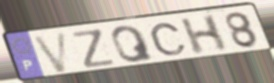8: (223, 10, 260, 50)
C: (148, 22, 189, 57)
H: (179, 13, 230, 56)
Q: (109, 24, 156, 64)
V: (31, 30, 70, 75)
Z: (70, 27, 119, 70)
